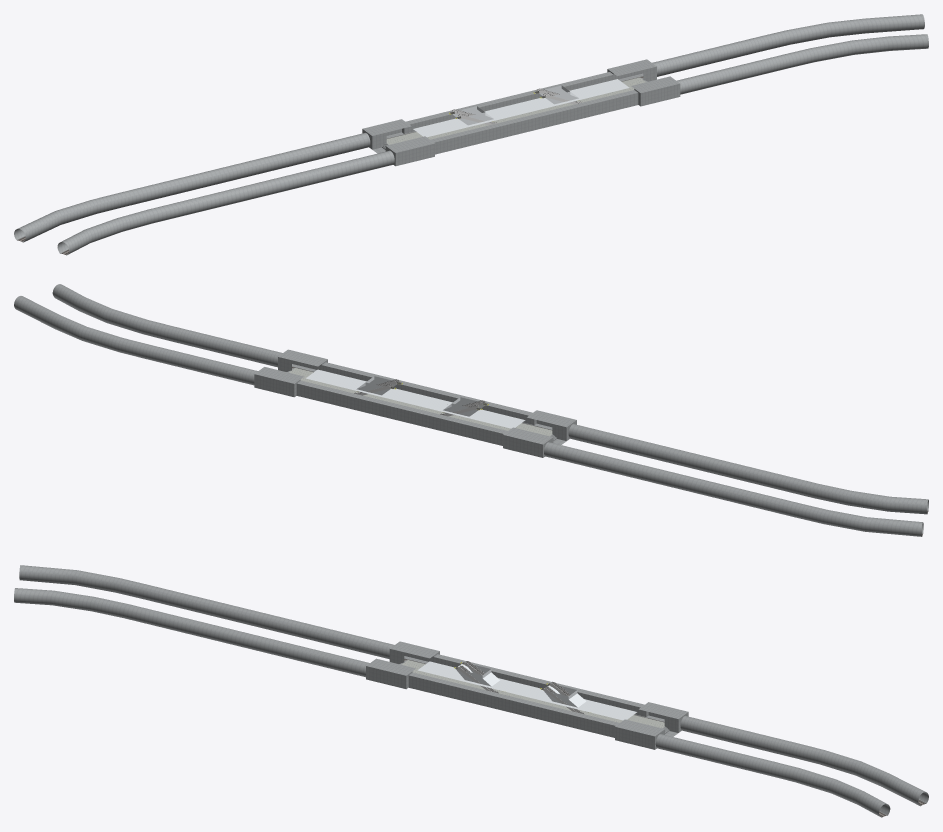
Rendered from VR_zhantai_qiang.fbx.
3 renders of one model, top to bottom at view 1: azimuth 30°, elevation 25°; view 2: azimuth 150°, elevation 25°; view 3: azimuth 330°, elevation 25°, orthographic.
Visible parts, largest first — view 1: polySurface773, pasted__polySurface6290; view 2: polySurface773, pasted__polySurface6290; view 3: polySurface773, pasted__polySurface6290.
Boxes of the visible parts, x1=… form: polySurface773: x1=14, y1=14, x2=928, y2=255; pasted__polySurface6290: x1=413, y1=79, x2=629, y2=137; polySurface773: x1=14, y1=284, x2=928, y2=536; pasted__polySurface6290: x1=306, y1=369, x2=525, y2=428; polySurface773: x1=14, y1=565, x2=928, y2=817; pasted__polySurface6290: x1=418, y1=661, x2=636, y2=720.
Bounding box in the file's own units: 44911 × 1089 × 4070.
